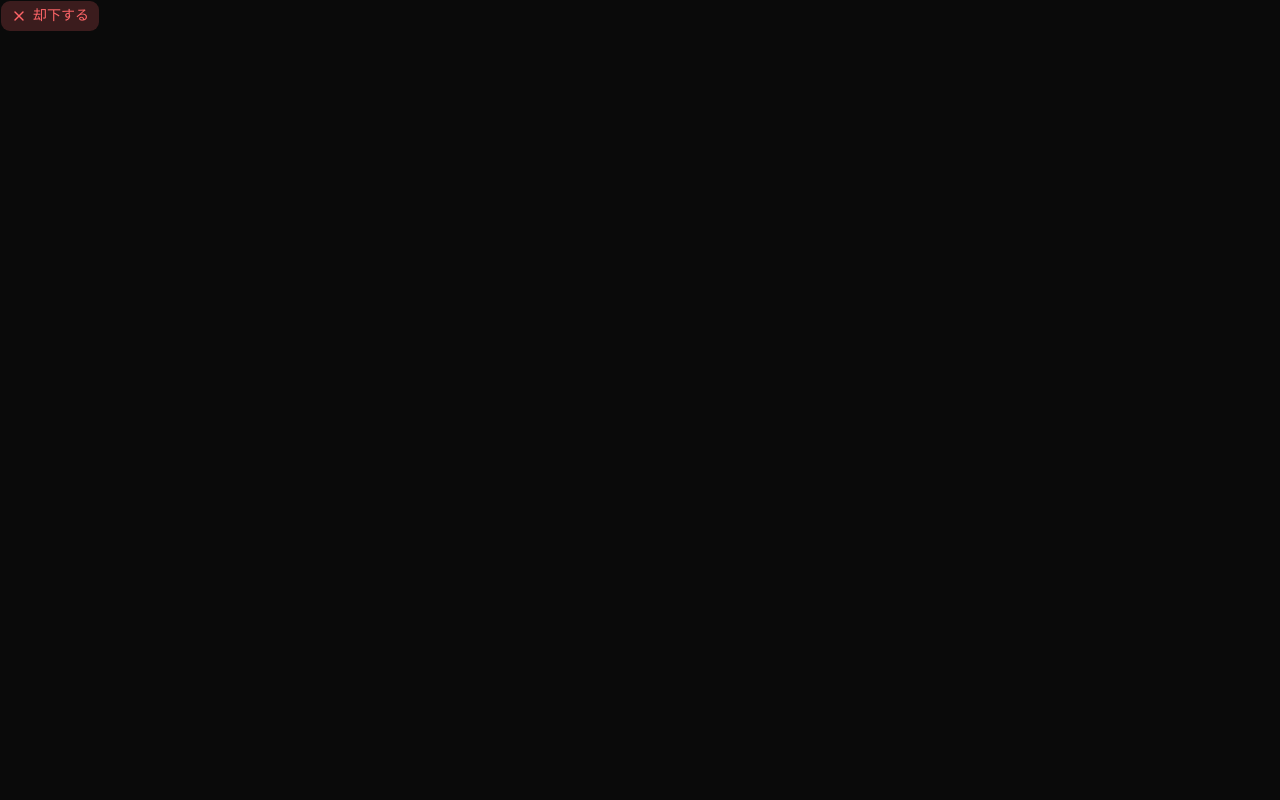
Test: RejectRequestDialog › 申請の更新が競合した場合はエラーを表示してDialogを閉じない
Click the button "却下する": (50, 16) [0,0,100,32]
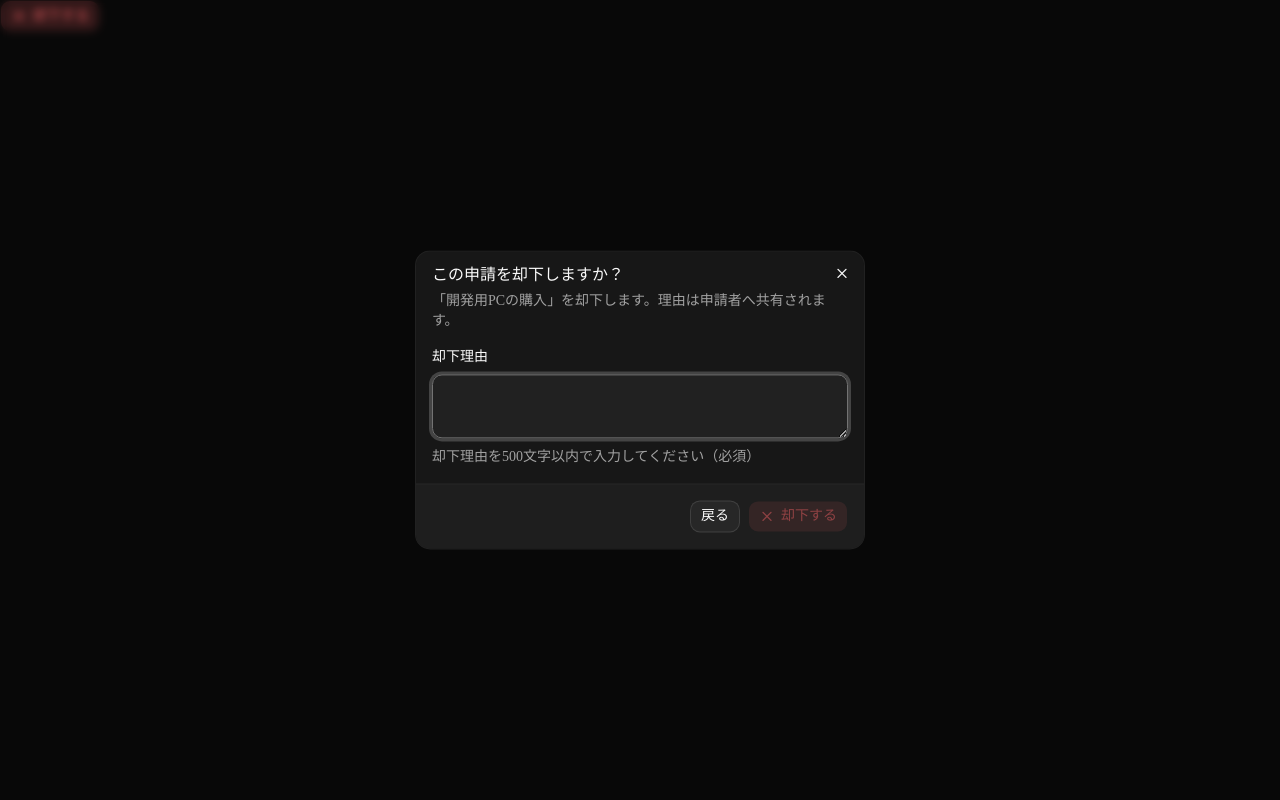
In the text box labelled "却下理由": (640, 407) [432,375,848,439], type "予算上限を超えているため"
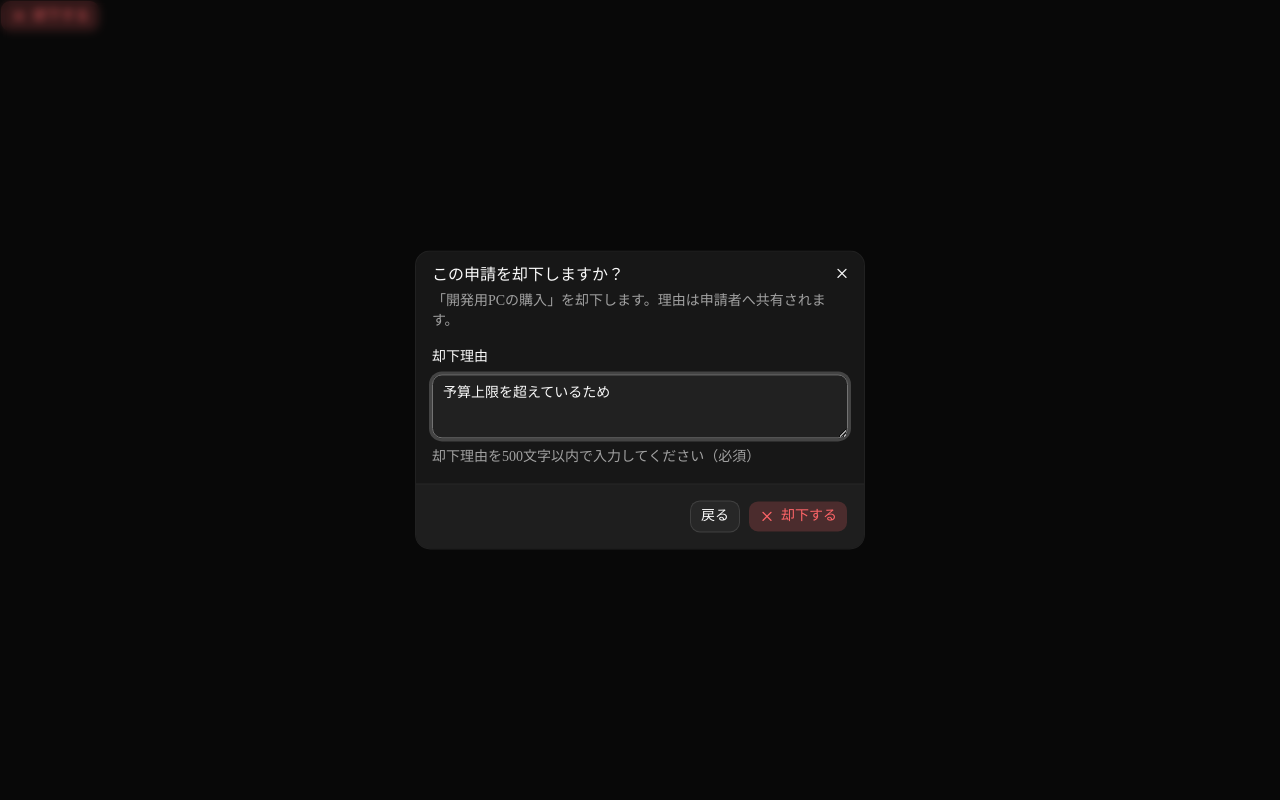
Click the button "却下する": (798, 517) [748,501,848,533]
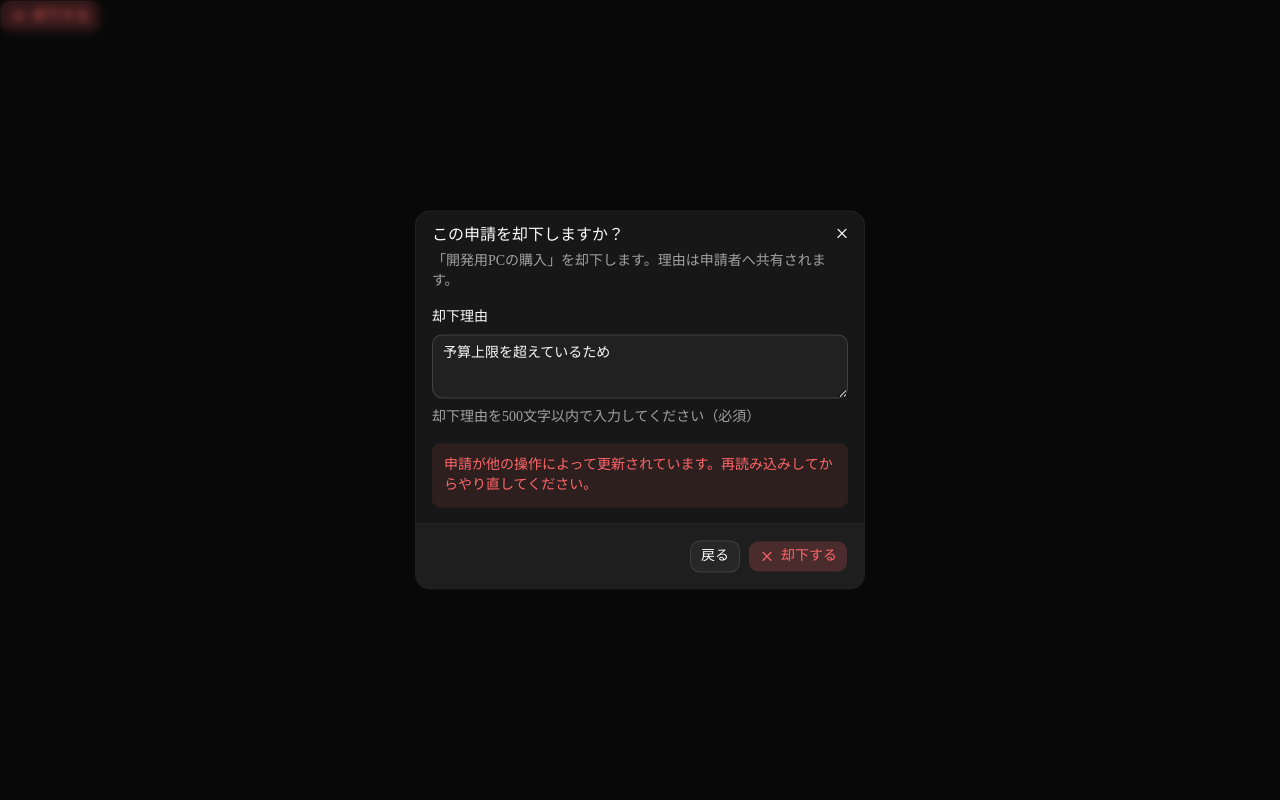
Expected: the dialog is shown, [416,211,864,589]
Expected: the message reads "申請が他の操作によって更新されています。再読み込みしてからやり直してください。", [444,458,833,493]
